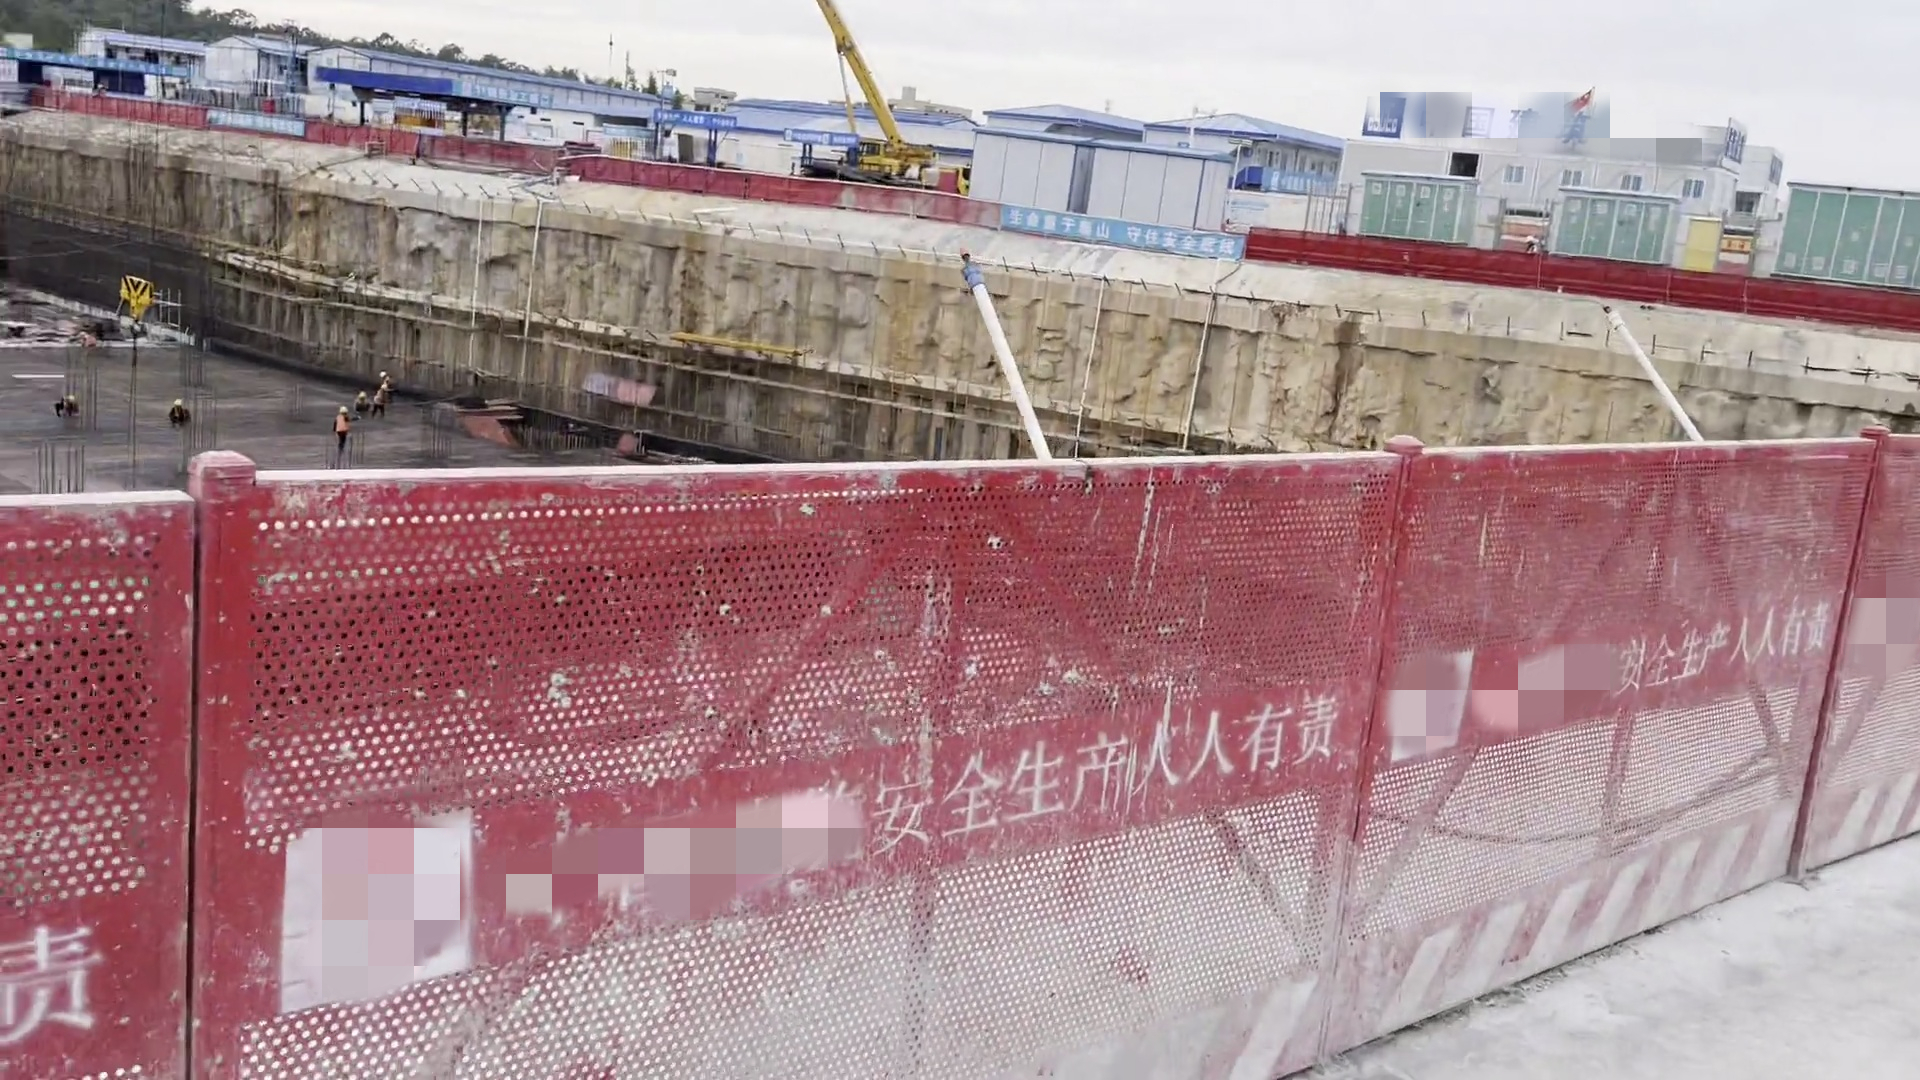fence: (1, 444, 1920, 1076), (5, 80, 1920, 330)
slogan: (876, 686, 1374, 851), (1605, 603, 1829, 687), (992, 198, 1247, 264)
